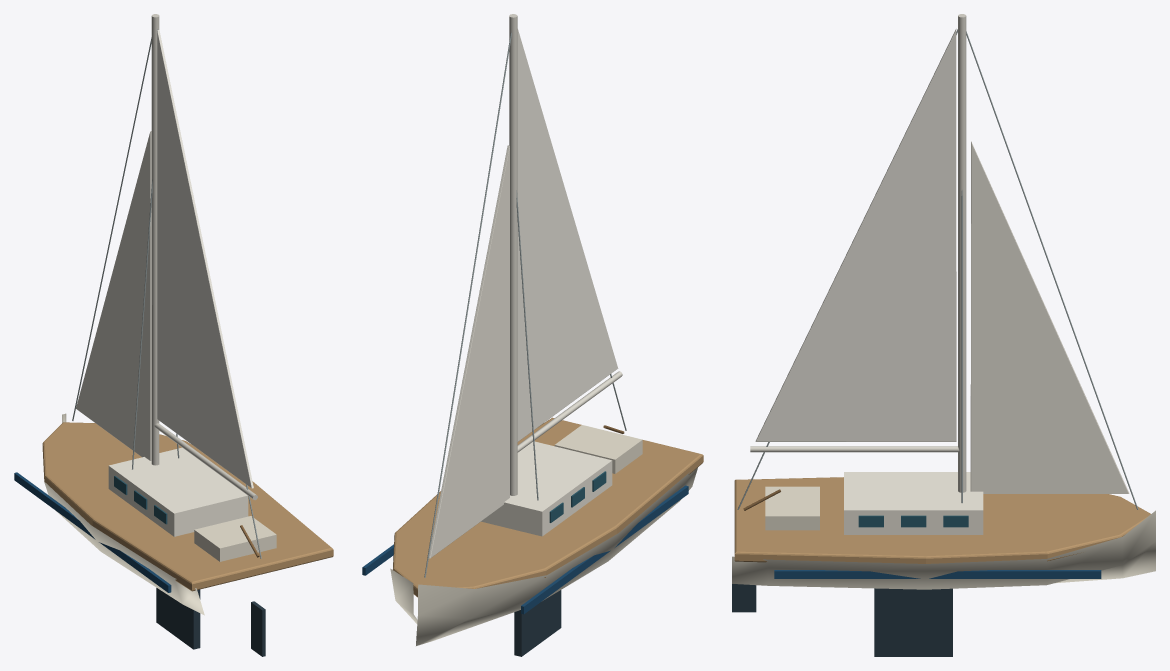
The model's file is sailboat.glb.
The picture shows the model from 3 angles, left to right: view 1: azimuth 30°, elevation 25°; view 2: azimuth 150°, elevation 25°; view 3: azimuth 270°, elevation 25°; orthographic projection. The views are drawn at different scales.
Parts seen in each view (by area): view 1: MainSailFabric, TimberDeck, JibSailFabric, Coachroof, MastAssembly, Cockpit, KeelAssembly, VHull, ShroudAssembly, HullStripeAssembly, PortholeAssembly; view 2: MainSailFabric, TimberDeck, JibSailFabric, VHull, Coachroof, MastAssembly, Cockpit, KeelAssembly, ShroudAssembly, HullStripeAssembly, PortholeAssembly; view 3: MainSailFabric, JibSailFabric, TimberDeck, VHull, Coachroof, KeelAssembly, MastAssembly, HullStripeAssembly, Cockpit, ShroudAssembly, PortholeAssembly.
Part boxes in pixels (x1=…): MainSailFabric: x1=157, y1=30, x2=253, y2=488; TimberDeck: x1=42, y1=422, x2=333, y2=591; JibSailFabric: x1=76, y1=131, x2=151, y2=460; Coachroof: x1=108, y1=447, x2=248, y2=536; MastAssembly: x1=151, y1=14, x2=257, y2=500; Cockpit: x1=194, y1=516, x2=276, y2=561; KeelAssembly: x1=156, y1=588, x2=265, y2=656; VHull: x1=44, y1=413, x2=204, y2=615; ShroudAssembly: x1=72, y1=29, x2=261, y2=558; HullStripeAssembly: x1=14, y1=472, x2=171, y2=592; PortholeAssembly: x1=114, y1=476, x2=167, y2=524; MainSailFabric: x1=517, y1=29, x2=618, y2=441; TimberDeck: x1=392, y1=417, x2=703, y2=597; JibSailFabric: x1=429, y1=145, x2=509, y2=558; VHull: x1=390, y1=467, x2=697, y2=645; Coachroof: x1=481, y1=441, x2=612, y2=536; MastAssembly: x1=509, y1=14, x2=622, y2=495; Cockpit: x1=554, y1=425, x2=642, y2=473; KeelAssembly: x1=514, y1=590, x2=561, y2=656; ShroudAssembly: x1=424, y1=32, x2=626, y2=577; HullStripeAssembly: x1=362, y1=485, x2=688, y2=614; PortholeAssembly: x1=549, y1=471, x2=606, y2=522; MainSailFabric: x1=755, y1=29, x2=956, y2=441; JibSailFabric: x1=970, y1=141, x2=1129, y2=493; TimberDeck: x1=734, y1=477, x2=1150, y2=563; VHull: x1=732, y1=510, x2=1155, y2=589; Coachroof: x1=844, y1=472, x2=983, y2=534; KeelAssembly: x1=732, y1=584, x2=952, y2=656; MastAssembly: x1=750, y1=14, x2=966, y2=492; HullStripeAssembly: x1=774, y1=570, x2=1101, y2=578; Cockpit: x1=765, y1=486, x2=819, y2=530; ShroudAssembly: x1=737, y1=29, x2=1138, y2=509; PortholeAssembly: x1=858, y1=515, x2=968, y2=527.
Bounding box in the file's own units: 3.3 × 11.65 × 7.
